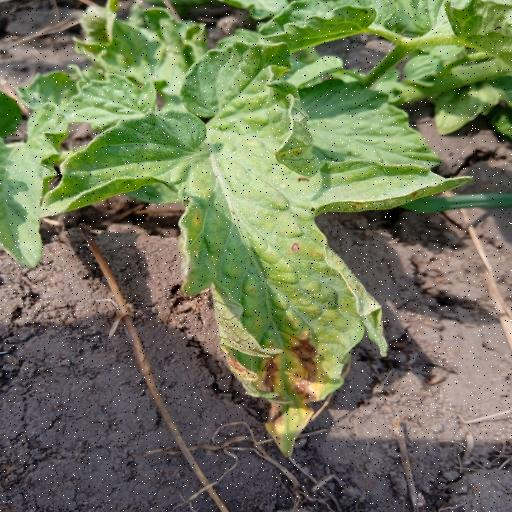Tomato_Brown_Spots: (43, 34, 480, 457)
